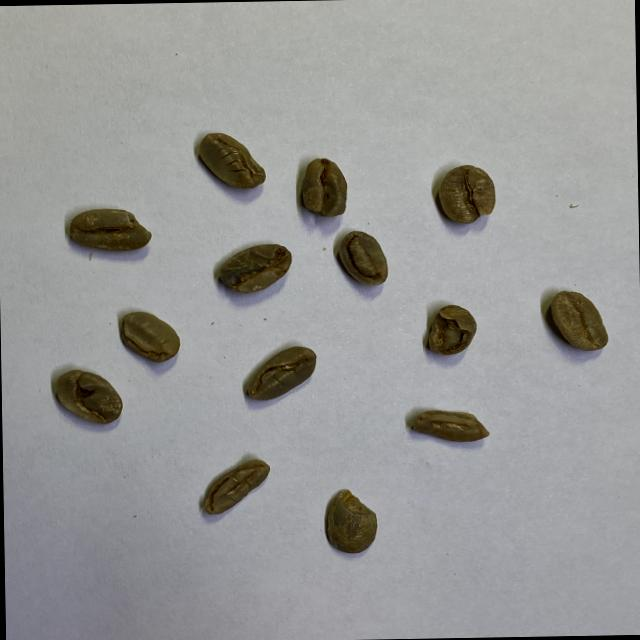bad: (200, 457, 272, 517), (197, 130, 267, 191), (245, 345, 319, 402), (54, 366, 124, 426), (216, 242, 292, 294), (322, 486, 378, 556), (68, 206, 152, 252), (120, 310, 180, 364), (300, 156, 350, 220), (338, 228, 390, 288), (410, 407, 491, 444), (424, 302, 478, 356)
good: (549, 288, 610, 352), (436, 163, 497, 225)
